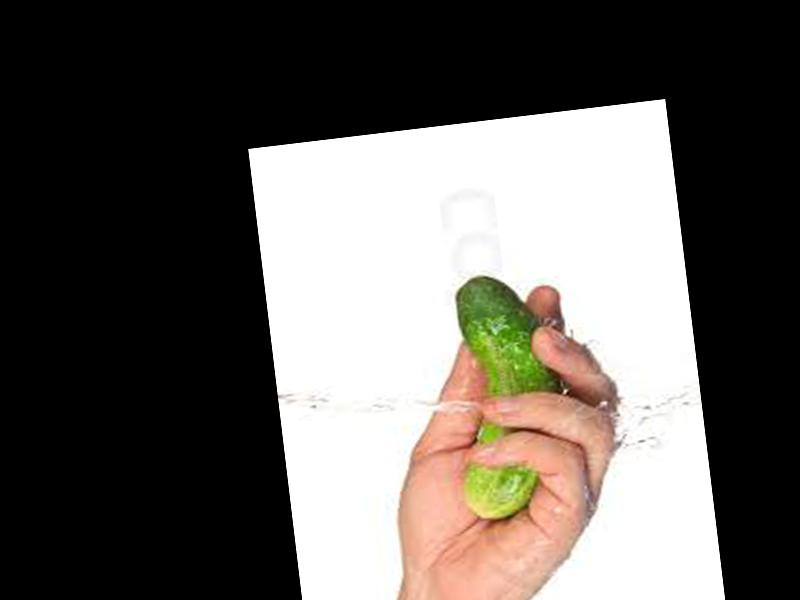Cucumber: (442, 268, 569, 520)
